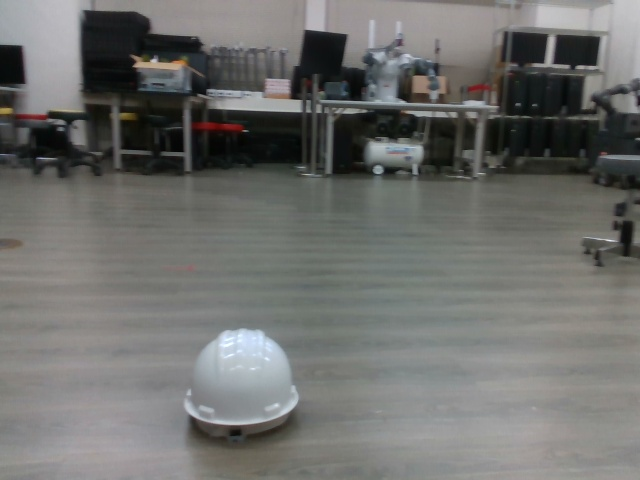helmet: (182, 325, 301, 441)
